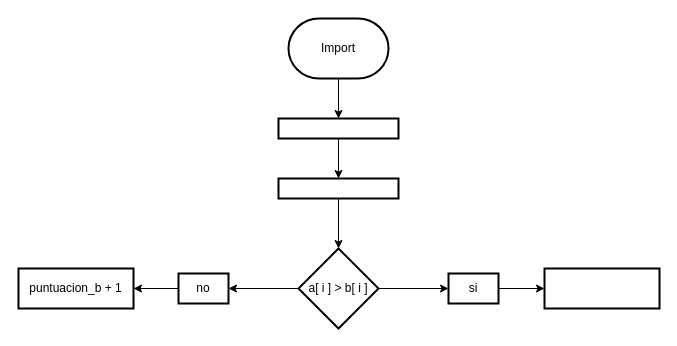
This 677x346 diagram has some shape labels left out. The centre of each missing label's shape, as x and y in pixels:
"puntuacion_a" belongs at (338,128).
"puntuacion_a + 1" belongs at (601,288).
"puntuacion_b" belongs at (338,188).
